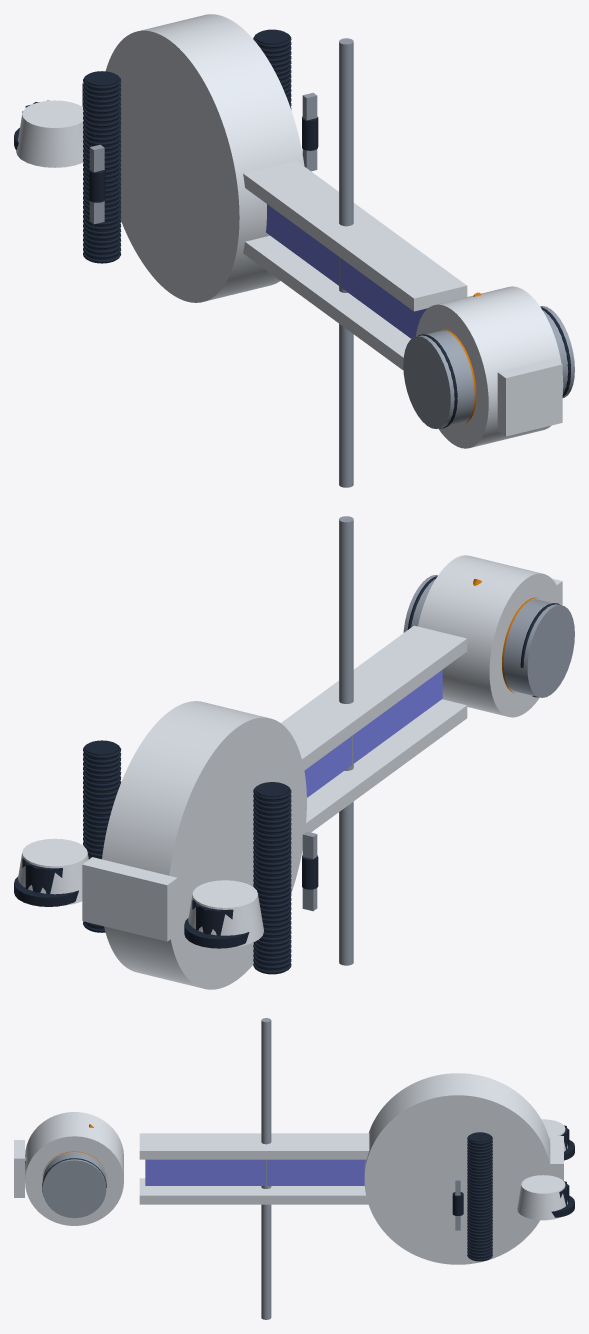
Rendered from connecting-rod.glb.
The picture shows the model from 3 angles, top to bottom: view 1: azimuth 30°, elevation 25°; view 2: azimuth 150°, elevation 25°; view 3: azimuth 270°, elevation 25°; orthographic projection. The views are drawn at different scales.
Parts seen in each view (by area): view 1: Big_End_Upper_Saddle, Fracture_Split_Lower_Rod_Cap, H_Beam_Flange_Rail_Right, Small_End_Titanium_Eye, DLC_Wrist_Pin_Segment, ARP_Bolt_Shank_1, H_Beam_Flange_Rail_Left, Gun_Drilled_Rifle_Oil_Passage, H_Beam_Central_Web_Plate, SmallEnd_Balance_Weight_Pad, ARP_Bolt_Spud_Boss_Seat_1, ARP_Bolt_Shank_2 (+2 smaller); view 2: Big_End_Upper_Saddle, Small_End_Titanium_Eye, H_Beam_Flange_Rail_Right, Fracture_Split_Lower_Rod_Cap, ARP_Bolt_Shank_1, BigEnd_Balance_Weight_Pad, DLC_Wrist_Pin_Segment, H_Beam_Flange_Rail_Left, Gun_Drilled_Rifle_Oil_Passage, H_Beam_Central_Web_Plate, ARP_Bolt_Shank_2, ARP_Bolt_Spud_Boss_Seat_1 (+4 smaller); view 3: Big_End_Upper_Saddle, Fracture_Split_Lower_Rod_Cap, H_Beam_Flange_Rail_Right, Small_End_Titanium_Eye, H_Beam_Central_Web_Plate, H_Beam_Flange_Rail_Left, DLC_Wrist_Pin_Segment, ARP_Bolt_Shank_2, Gun_Drilled_Rifle_Oil_Passage, ARP_Bolt_Spud_Boss_Seat_2, SmallEnd_Balance_Weight_Pad, BigEnd_Balance_Weight_Pad.
Boxes of the visible parts, x1=… form: Big_End_Upper_Saddle: x1=105, y1=14, x2=304, y2=217; Fracture_Split_Lower_Rod_Cap: x1=120, y1=131, x2=280, y2=302; H_Beam_Flange_Rail_Right: x1=243, y1=160, x2=467, y2=311; Small_End_Titanium_Eye: x1=416, y1=286, x2=563, y2=448; DLC_Wrist_Pin_Segment: x1=403, y1=306, x2=574, y2=428; ARP_Bolt_Shank_1: x1=83, y1=71, x2=121, y2=263; H_Beam_Flange_Rail_Left: x1=243, y1=235, x2=410, y2=370; Gun_Drilled_Rifle_Oil_Passage: x1=339, y1=38, x2=353, y2=487; H_Beam_Central_Web_Plate: x1=266, y1=204, x2=427, y2=338; SmallEnd_Balance_Weight_Pad: x1=497, y1=358, x2=562, y2=436; ARP_Bolt_Spud_Boss_Seat_1: x1=16, y1=100, x2=83, y2=167; ARP_Bolt_Shank_2: x1=253, y1=29, x2=291, y2=109; Big_End_Upper_Saddle: x1=102, y1=701, x2=306, y2=896; Small_End_Titanium_Eye: x1=418, y1=555, x2=562, y2=717; H_Beam_Flange_Rail_Right: x1=281, y1=625, x2=467, y2=770; Fracture_Split_Lower_Rod_Cap: x1=104, y1=803, x2=306, y2=989; ARP_Bolt_Shank_1: x1=253, y1=782, x2=291, y2=974; BigEnd_Balance_Weight_Pad: x1=82, y1=857, x2=177, y2=941; DLC_Wrist_Pin_Segment: x1=403, y1=575, x2=574, y2=697; H_Beam_Flange_Rail_Left: x1=305, y1=699, x2=467, y2=832; Gun_Drilled_Rifle_Oil_Passage: x1=339, y1=516, x2=353, y2=965; H_Beam_Central_Web_Plate: x1=304, y1=670, x2=442, y2=797; ARP_Bolt_Shank_2: x1=83, y1=740, x2=121, y2=932; ARP_Bolt_Spud_Boss_Seat_1: x1=188, y1=880, x2=263, y2=947; Big_End_Upper_Saddle: x1=364, y1=1073, x2=550, y2=1179; Fracture_Split_Lower_Rod_Cap: x1=364, y1=1180, x2=539, y2=1264; H_Beam_Flange_Rail_Right: x1=139, y1=1133, x2=369, y2=1159; Small_End_Titanium_Eye: x1=25, y1=1112, x2=123, y2=1225; H_Beam_Central_Web_Plate: x1=145, y1=1159, x2=365, y2=1185; H_Beam_Flange_Rail_Left: x1=139, y1=1178, x2=368, y2=1204; DLC_Wrist_Pin_Segment: x1=42, y1=1152, x2=106, y2=1218; ARP_Bolt_Shank_2: x1=467, y1=1132, x2=492, y2=1261; Gun_Drilled_Rifle_Oil_Passage: x1=261, y1=1018, x2=271, y2=1319; ARP_Bolt_Spud_Boss_Seat_2: x1=517, y1=1175, x2=567, y2=1220; SmallEnd_Balance_Weight_Pad: x1=14, y1=1140, x2=24, y2=1197; BigEnd_Balance_Weight_Pad: x1=550, y1=1136, x2=563, y2=1180.
Size of the model in its own units: 0.067 by 0.1194 by 0.2039.
